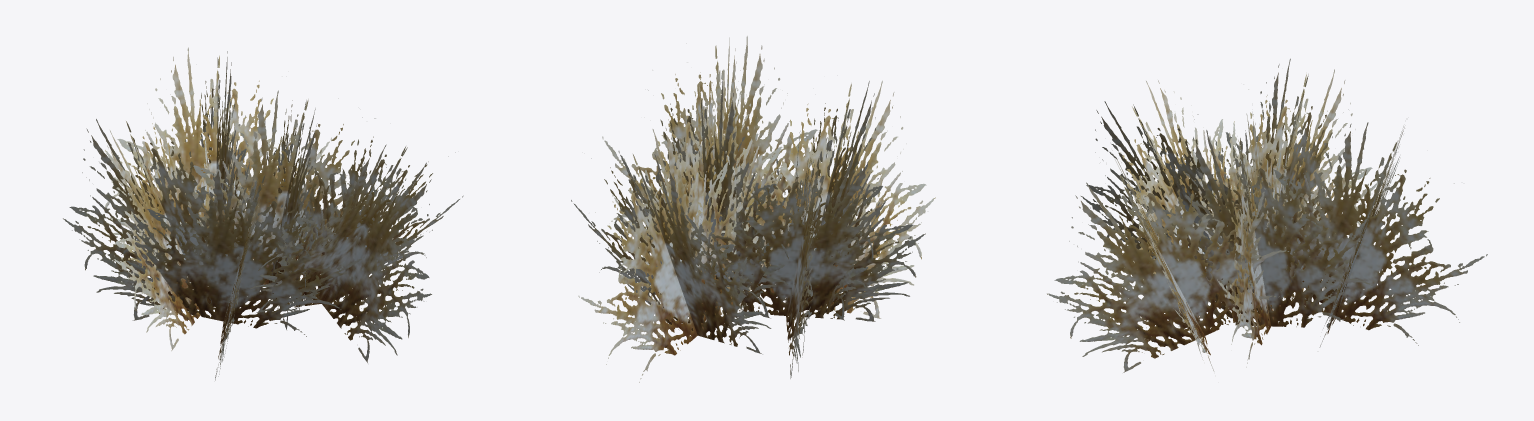
Rendered from S7_new3d_xue_cao.FBX.
The picture shows the model from 3 angles, left to right: view 1: azimuth 30°, elevation 25°; view 2: azimuth 150°, elevation 25°; view 3: azimuth 270°, elevation 25°; orthographic projection. The views are drawn at different scales.
Parts seen in each view (by area): view 1: S7_new3d_xue_cao; view 2: S7_new3d_xue_cao; view 3: S7_new3d_xue_cao.
Part boxes in pixels (x1,y1,x2,y2): S7_new3d_xue_cao: [63, 47, 463, 380]; S7_new3d_xue_cao: [571, 36, 935, 382]; S7_new3d_xue_cao: [1047, 58, 1487, 372].
Size of the model in its own units: 1.28 by 0.9104 by 1.45.
